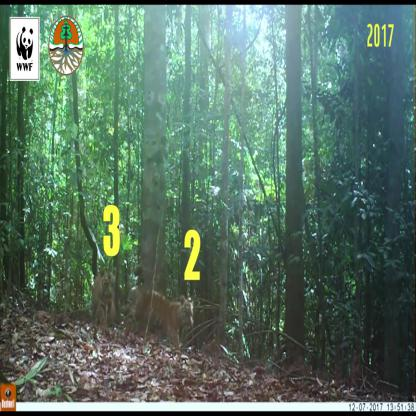Tiger: (121, 281, 195, 360), (89, 260, 118, 334)
